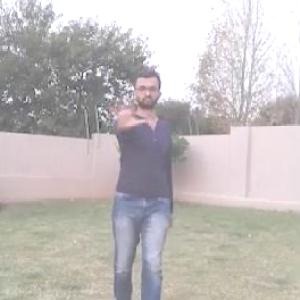follow_hand: (107, 86, 146, 136)
